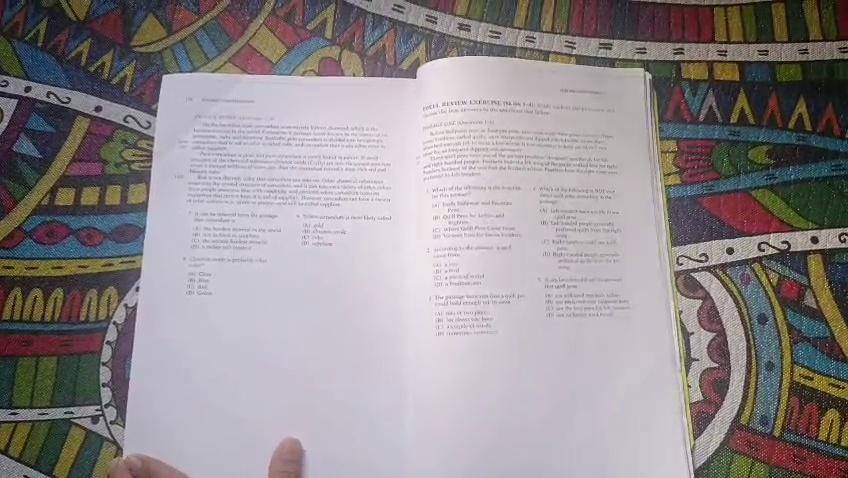Kertas: (413, 75, 650, 476), (164, 74, 411, 434)
